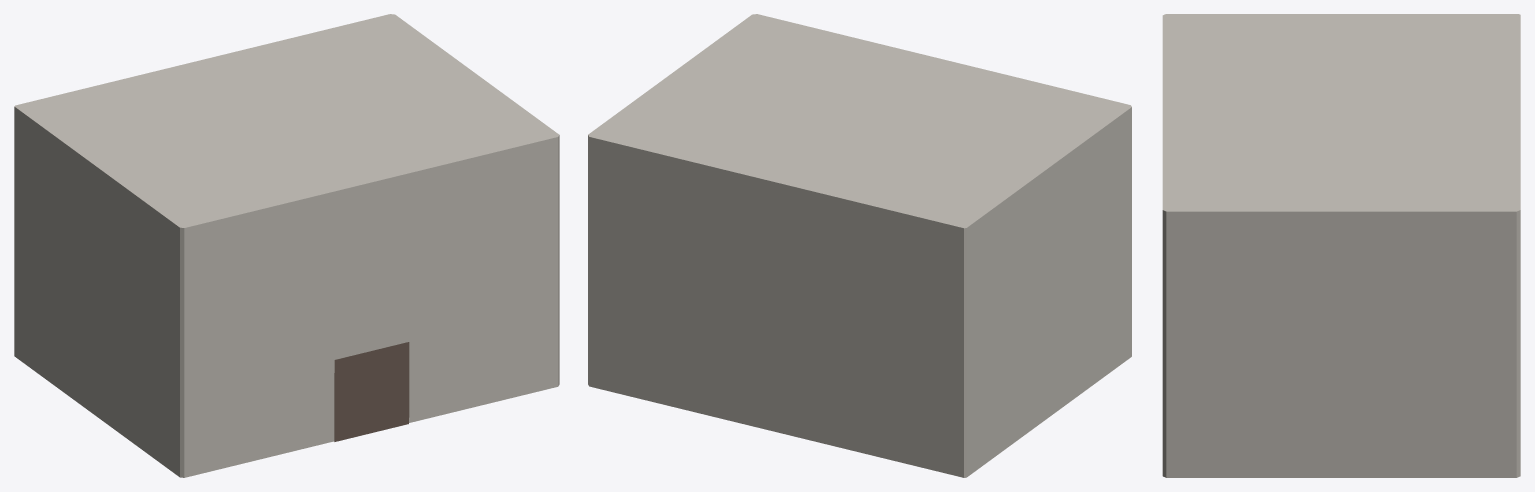
File: loin-etape-1.glb
The picture shows the model from 3 angles, left to right: view 1: azimuth 30°, elevation 25°; view 2: azimuth 150°, elevation 25°; view 3: azimuth 270°, elevation 25°; orthographic projection. The views are drawn at different scales.
Parts seen in each view (by area): view 1: loin; view 2: loin; view 3: loin.
Boxes of the visible parts, bbox=[...] form: loin: bbox=[14, 14, 559, 477]; loin: bbox=[588, 14, 1131, 477]; loin: bbox=[1162, 14, 1520, 477].
Bounding box in the file's own units: 0.8394 × 0.5276 × 0.6468.
